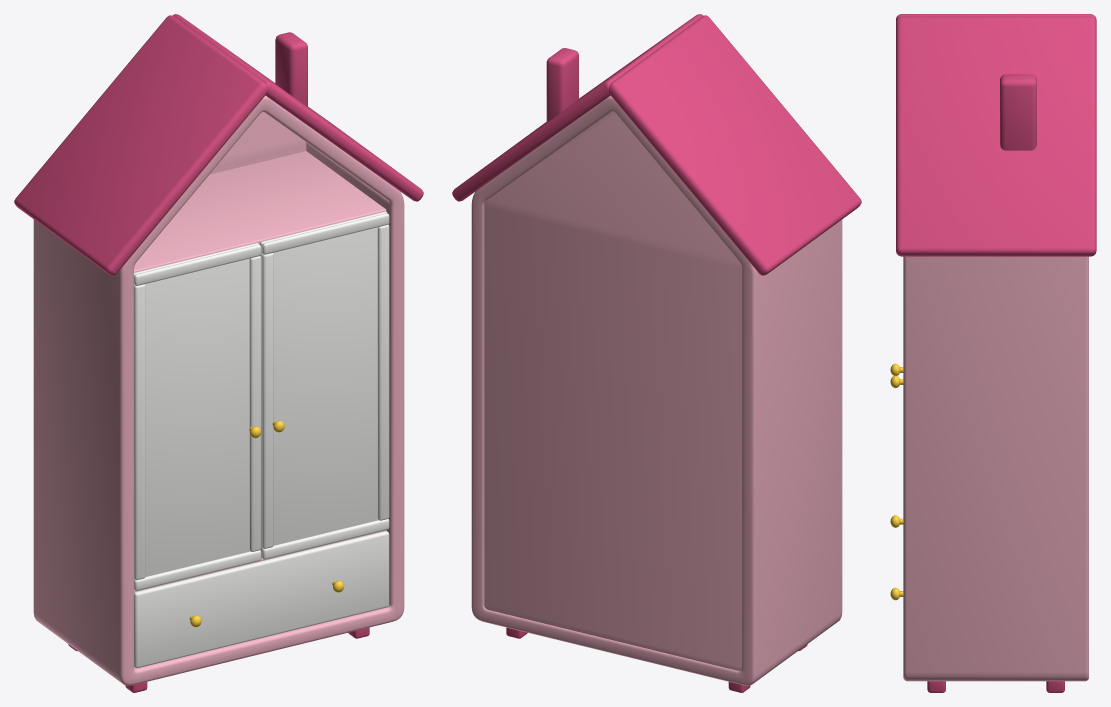
The model's file is guarda_roupa_infantil_casinha_rosa.glb.
The picture shows the model from 3 angles, left to right: view 1: azimuth 30°, elevation 25°; view 2: azimuth 150°, elevation 25°; view 3: azimuth 270°, elevation 25°; orthographic projection. The views are drawn at different scales.
Visible parts, largest first — view 1: guarda_roupa_infantil_casinha_rosa, porta_2, porta_1, gaveta_1; view 2: guarda_roupa_infantil_casinha_rosa; view 3: guarda_roupa_infantil_casinha_rosa.
Boxes of the visible parts, x1=… form: guarda_roupa_infantil_casinha_rosa: x1=14, y1=14, x2=423, y2=692; porta_2: x1=260, y1=211, x2=389, y2=559; porta_1: x1=134, y1=243, x2=261, y2=590; gaveta_1: x1=134, y1=531, x2=389, y2=668; guarda_roupa_infantil_casinha_rosa: x1=452, y1=14, x2=861, y2=692; guarda_roupa_infantil_casinha_rosa: x1=896, y1=14, x2=1096, y2=692.
Bounding box in the file's own units: 1.03 × 1.83 × 0.5546.
Materials: 1 (1 with a texture image).
